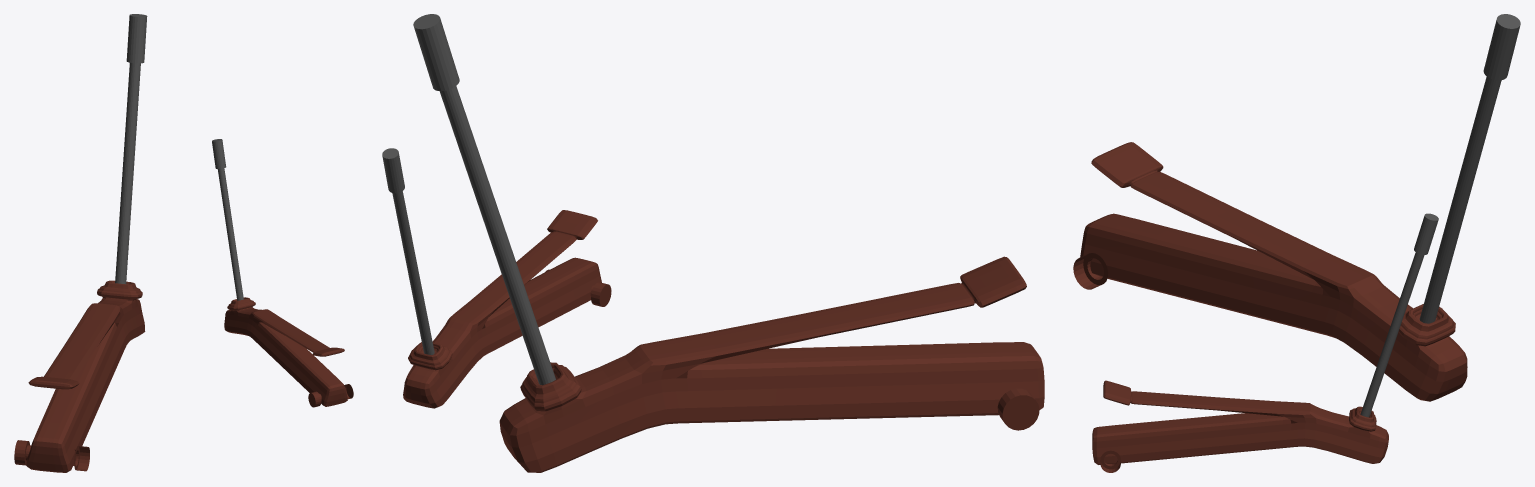
Rendered from cricuri garaj.fbx.
The picture shows the model from 3 angles, left to right: view 1: azimuth 30°, elevation 25°; view 2: azimuth 150°, elevation 25°; view 3: azimuth 270°, elevation 25°; orthographic projection. The views are drawn at different scales.
Visible parts, largest first — view 1: Cylinder.017; view 2: Cylinder.017; view 3: Cylinder.017.
Part boxes in pixels (x1,y1,x2,y2): Cylinder.017: [14, 14, 353, 472]; Cylinder.017: [382, 14, 1044, 472]; Cylinder.017: [1073, 14, 1520, 472].
Size of the model in its own units: 144 by 125 by 124.
